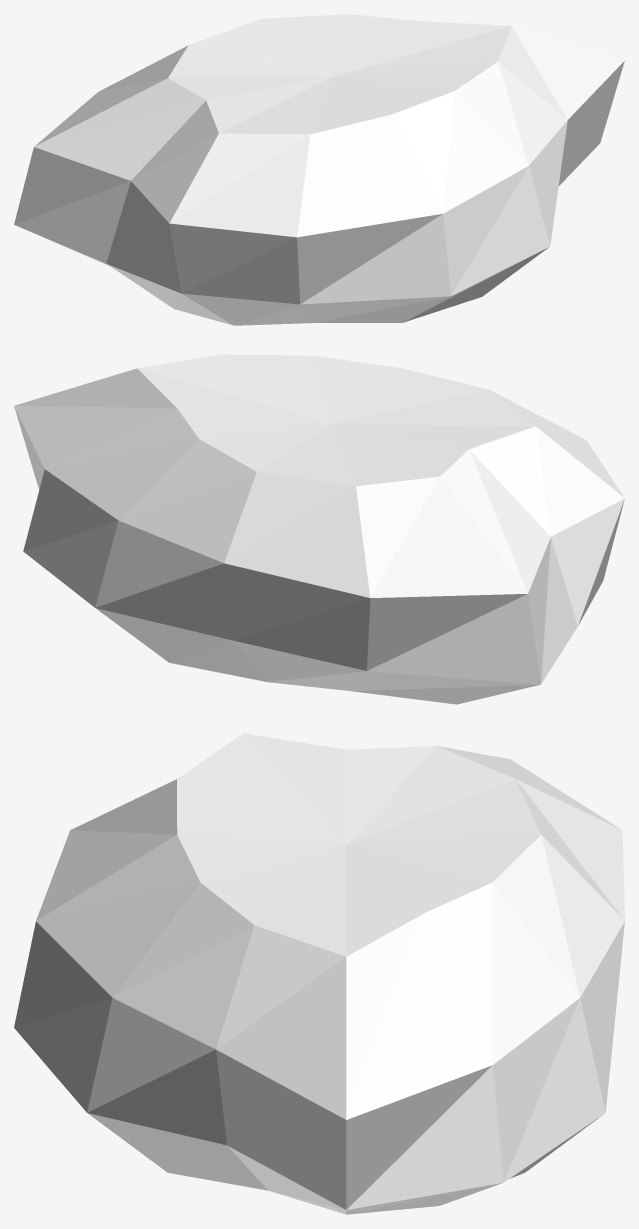
File: ground_rock.obj
The picture shows the model from 3 angles, top to bottom: view 1: azimuth 30°, elevation 25°; view 2: azimuth 150°, elevation 25°; view 3: azimuth 270°, elevation 25°; orthographic projection. The views are drawn at different scales.
Visible parts, largest first — view 1: ground_rock; view 2: ground_rock; view 3: ground_rock.
Part boxes in pixels (x1,y1,x2,y2): ground_rock: (14,14,624,325); ground_rock: (14,354,624,704); ground_rock: (14,733,624,1214).
Bounding box in the file's own units: 2.22 × 0.8083 × 1.54.
